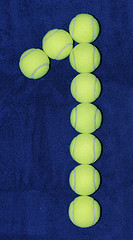tennis ball: (68, 195, 102, 229), (68, 163, 102, 196), (69, 133, 104, 165), (68, 12, 101, 44), (68, 42, 101, 74), (69, 102, 102, 134), (69, 72, 103, 103), (18, 48, 51, 79), (43, 29, 74, 61)
